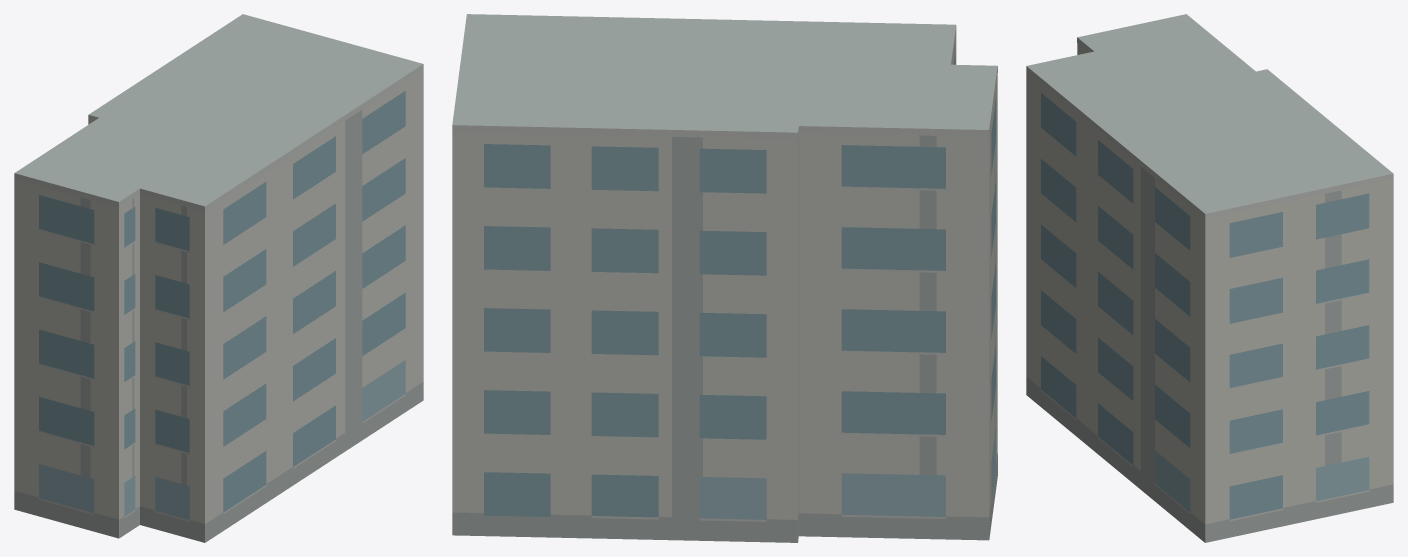
Rendered from survey-upis-32814019.glb.
The picture shows the model from 3 angles, left to right: view 1: azimuth 30°, elevation 25°; view 2: azimuth 150°, elevation 25°; view 3: azimuth 270°, elevation 25°; orthographic projection. The views are drawn at different scales.
Visible parts, largest first — view 1: survey-upis-32814019.tmp; view 2: survey-upis-32814019.tmp; view 3: survey-upis-32814019.tmp.
Part boxes in pixels (x1,y1,x2,y2): survey-upis-32814019.tmp: (14,14,423,542); survey-upis-32814019.tmp: (452,14,997,542); survey-upis-32814019.tmp: (1026,14,1393,542).
Size of the model in its own units: 18.64 by 14.3 by 14.47.
